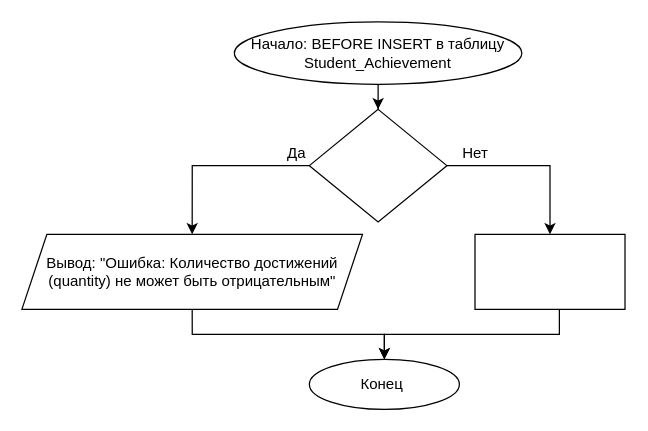
Some shapes in this 648 by 431 pixel diagram are drawn without their labels. The shapes that lost their labels are listed below. From the top down, each one's centre as x and y in pixels, then its label:
At (377,165): "добавляемое quantity < 0 ?".
At (549,271): "Добавляем запись".
